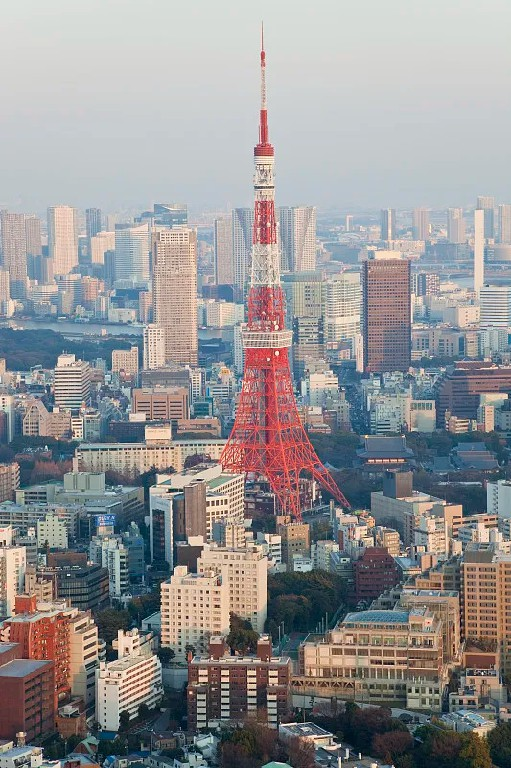Tokyo: (217, 15, 352, 520)
